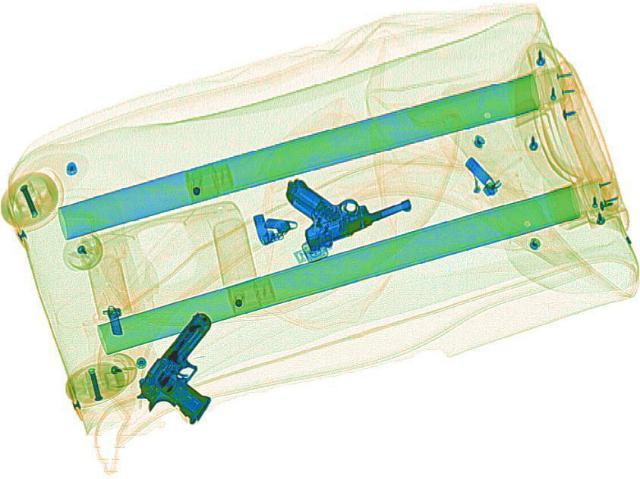Gun: (122, 308, 264, 425), (262, 150, 418, 251)
